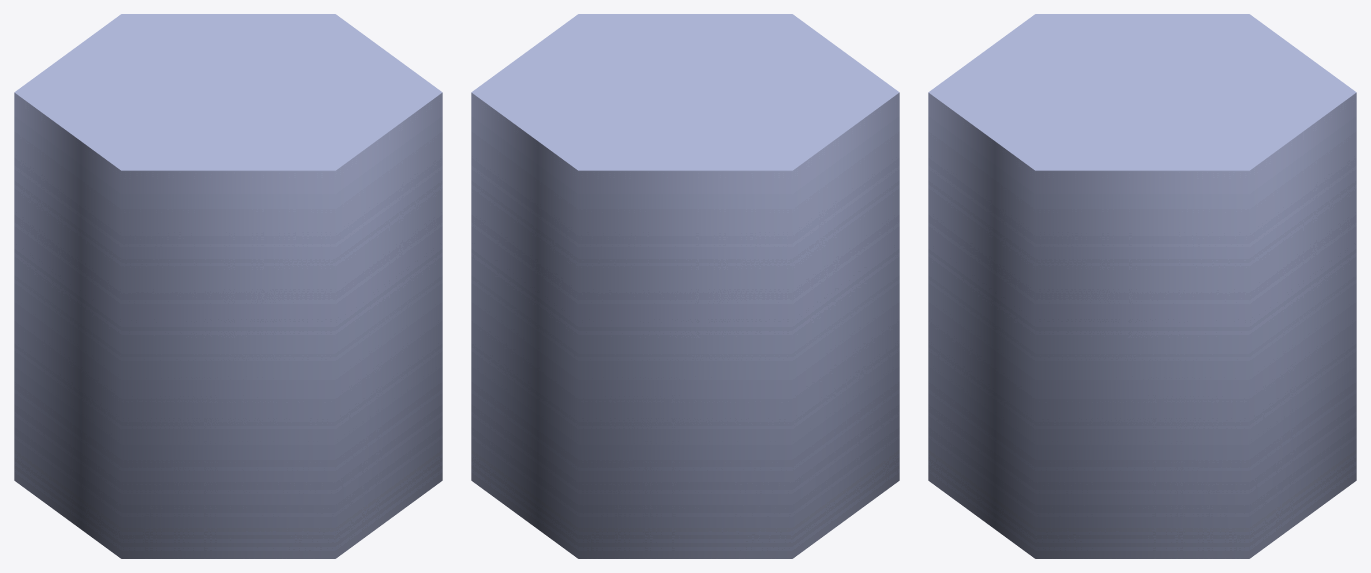
File: shape-hexagon.glb
3 views of the same model, side by side, from view 1: azimuth 30°, elevation 25°; view 2: azimuth 150°, elevation 25°; view 3: azimuth 270°, elevation 25° (orthographic).
Parts seen in each view (by area): view 1: shape-hexagon; view 2: shape-hexagon; view 3: shape-hexagon.
Boxes of the visible parts, bbox=[...] form: shape-hexagon: bbox=[14, 14, 442, 558]; shape-hexagon: bbox=[471, 14, 899, 558]; shape-hexagon: bbox=[928, 14, 1356, 558].
Bounding box in the file's own units: 0.866 × 1 × 1.
1 material, 1 textured.
